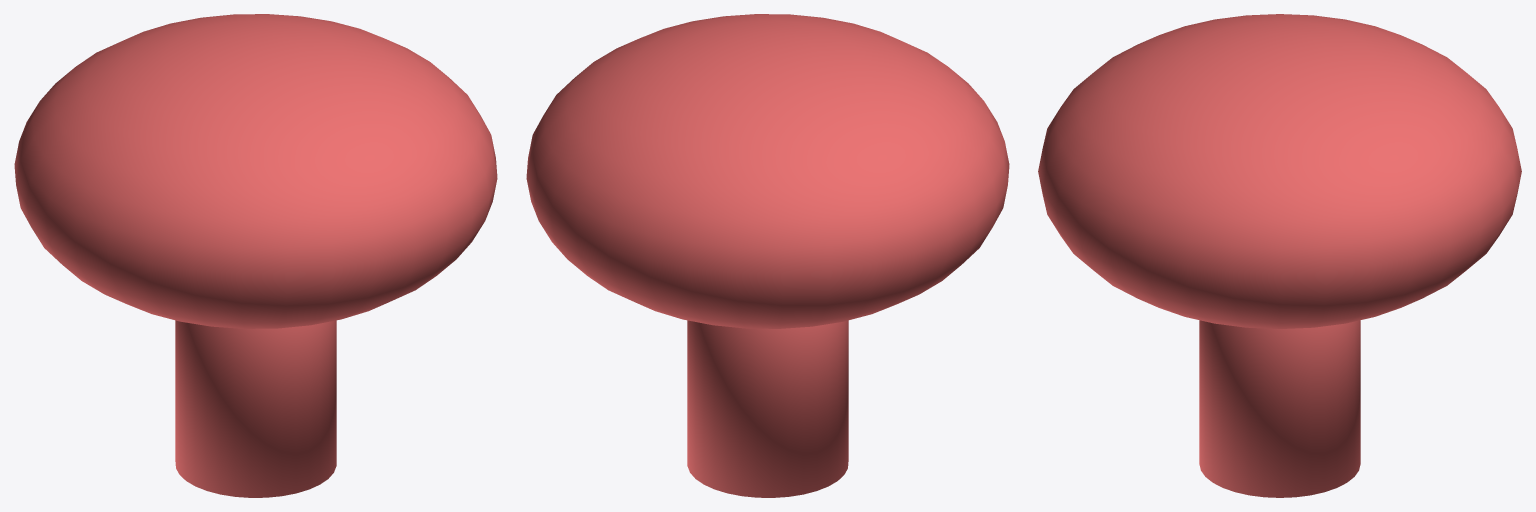
Rendered from mushroom.glb.
3 views of the same model, side by side, from view 1: azimuth 30°, elevation 25°; view 2: azimuth 150°, elevation 25°; view 3: azimuth 270°, elevation 25° (orthographic).
Parts seen in each view (by area): view 1: mushroom.001; view 2: mushroom.001; view 3: mushroom.001.
Boxes of the visible parts, x1,y1,x2,y2 form: mushroom.001: [14, 14, 497, 497]; mushroom.001: [526, 14, 1009, 497]; mushroom.001: [1038, 14, 1521, 497].
Bounding box in the file's own units: 0.7 × 0.6592 × 0.7.
